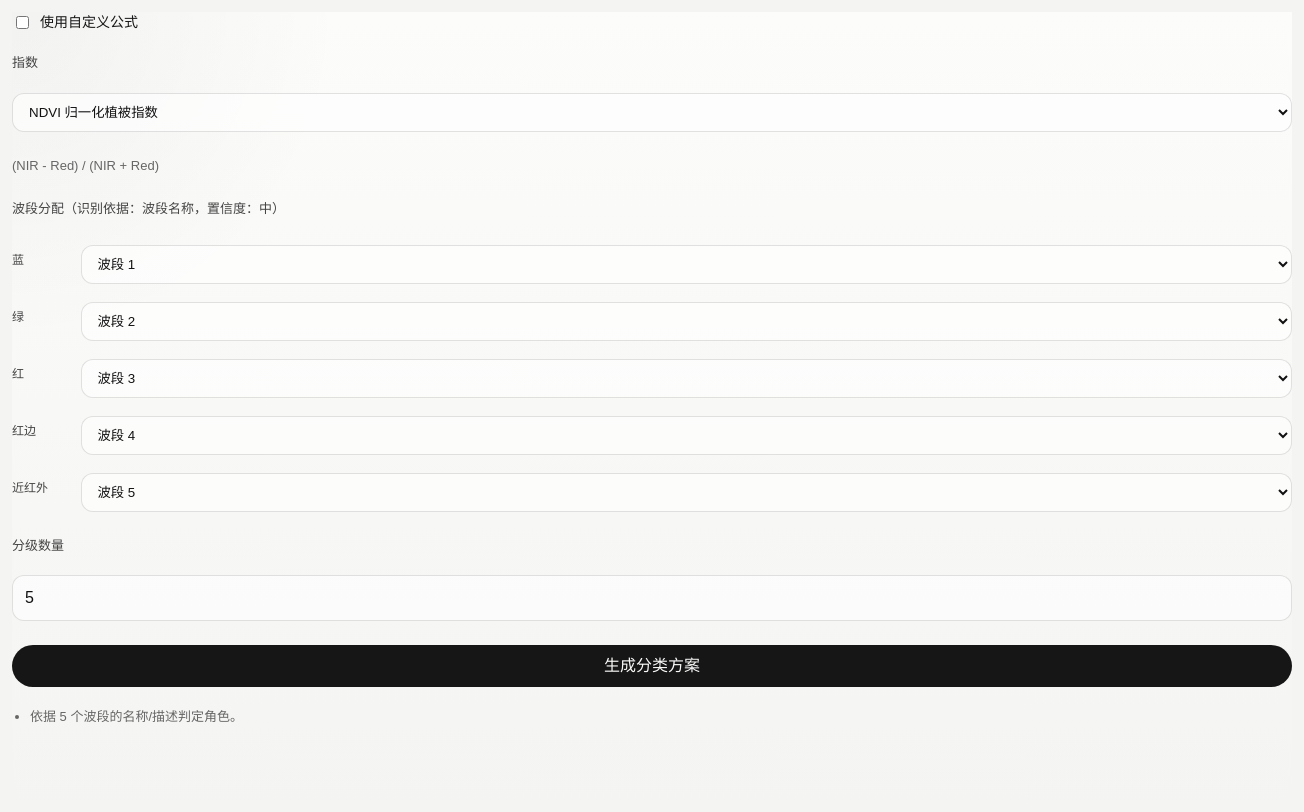
Test: VegetationIndexPanel › reports when the data cannot be split
Check: the number field labelled "分级数量" is shown, box top-left (12, 575), bottom-right (1292, 621)
Click the button "生成分类方案" at {"x": 652, "y": 666}, box top-left (12, 645), bottom-right (1292, 687)
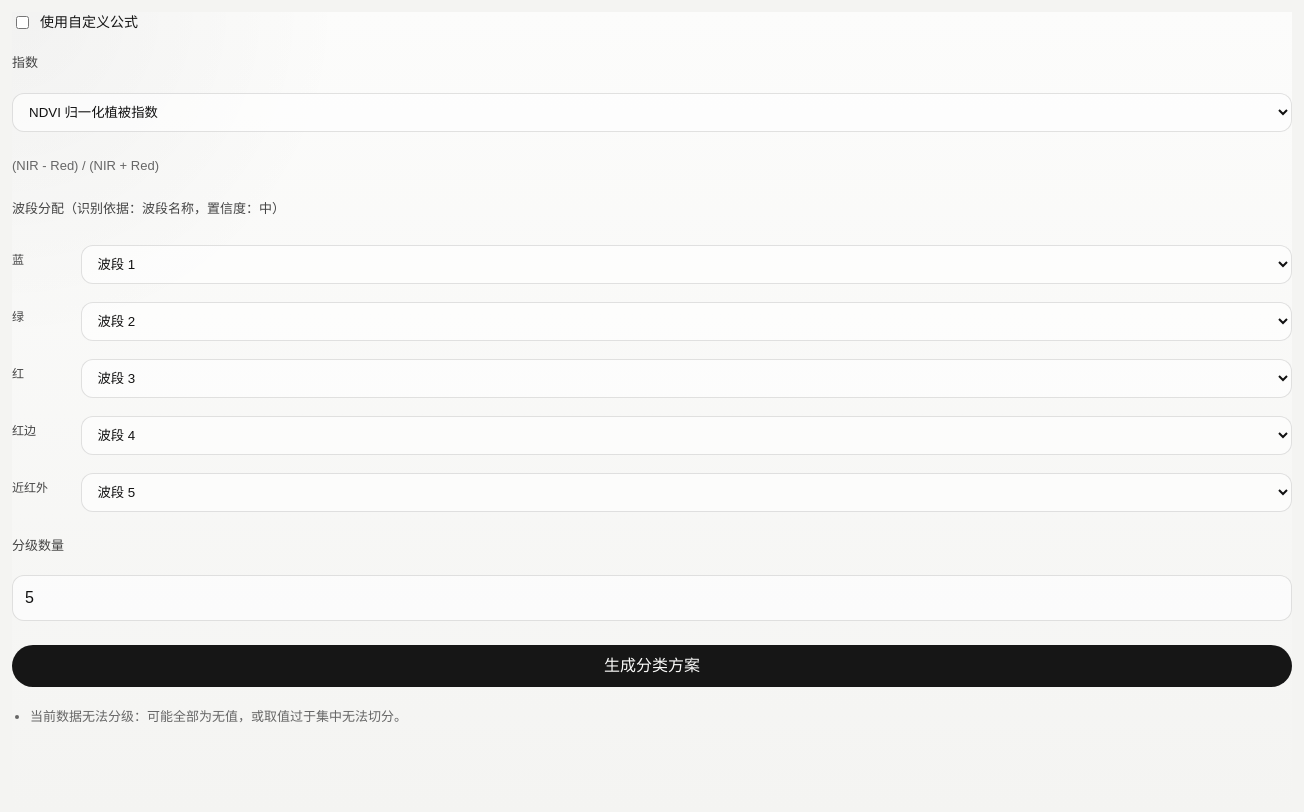
Check: the list named "vegetation-index-message" shows "无法分级", box top-left (30, 709), bottom-right (407, 724)
